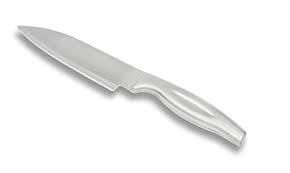Knife: (16, 24, 247, 147)
